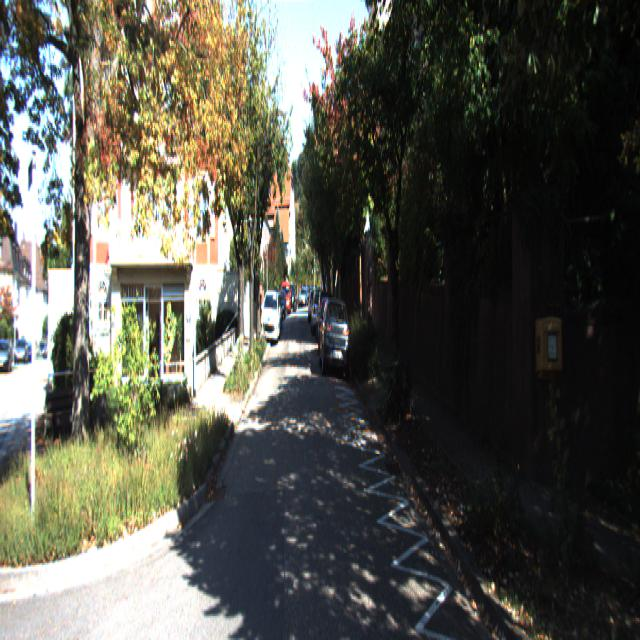Car: (319, 291, 350, 380), (260, 288, 280, 346)
